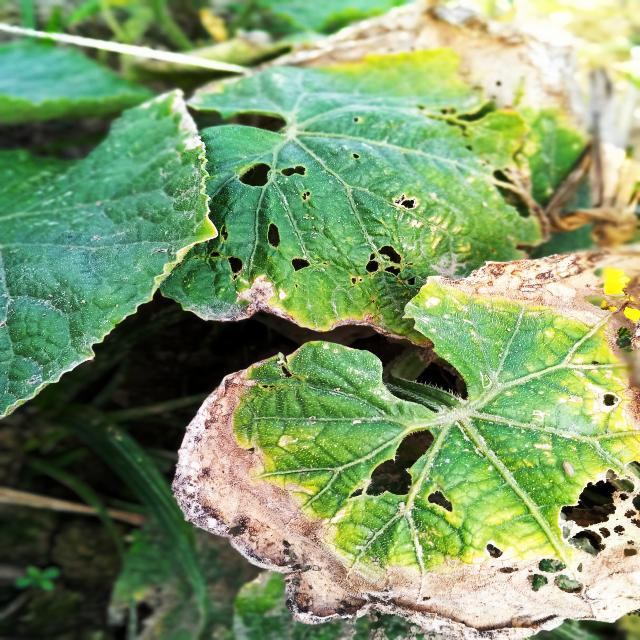Gummy-Stem-Blight: (173, 361, 640, 640), (421, 246, 638, 364), (228, 271, 300, 324)
